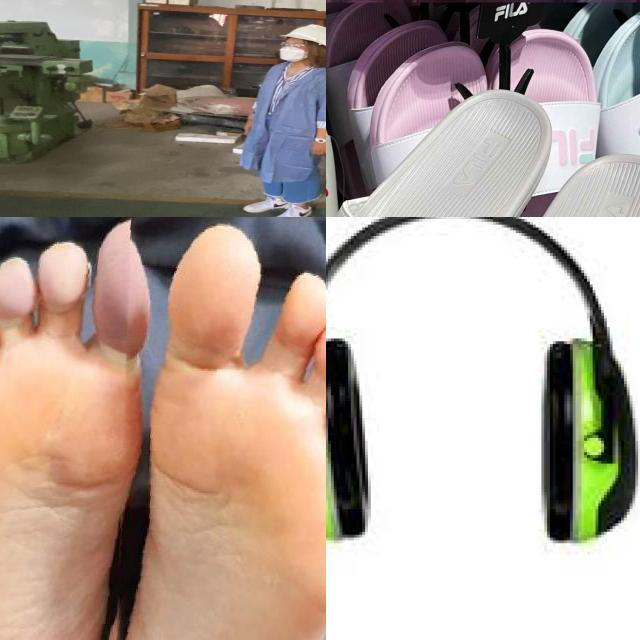Barefoots: (110, 227, 326, 640), (0, 217, 150, 640)
Ear-protection: (536, 330, 638, 543), (326, 329, 370, 540)
Sandals: (326, 67, 640, 217)
face_mask: (276, 40, 309, 63)
glasses: (279, 41, 308, 51)
hand_noglove: (308, 138, 326, 157)
head_helmet: (277, 22, 326, 48)
person: (232, 23, 326, 217)
shoes: (238, 195, 298, 214), (265, 198, 316, 217)
